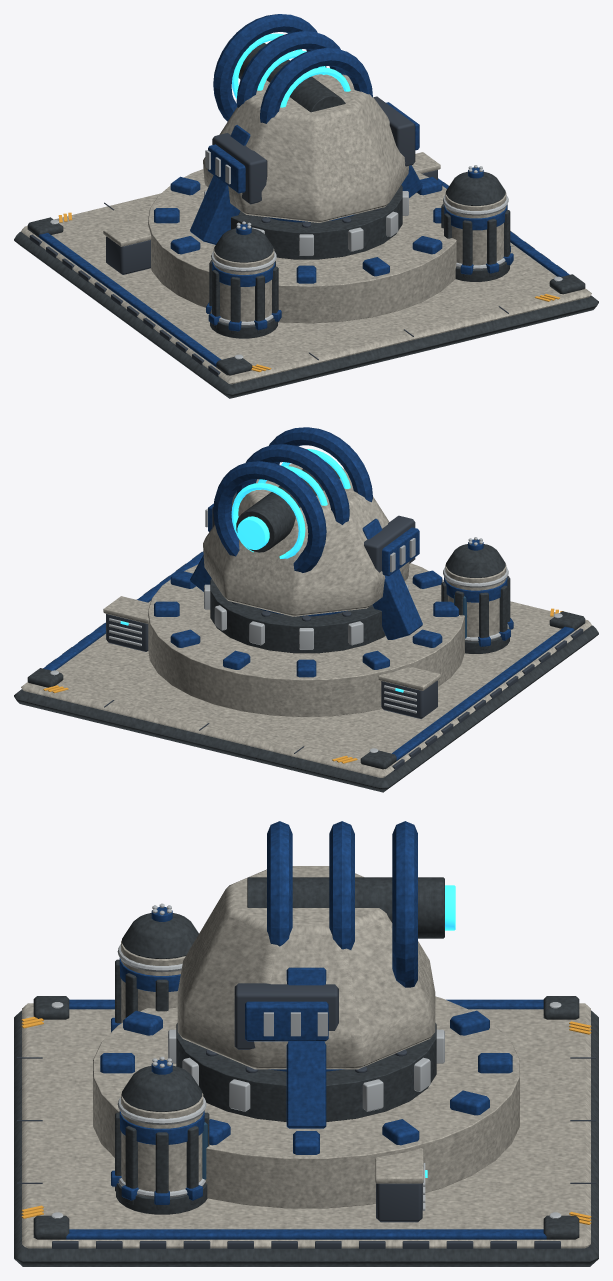
The model's file is solis_canon_solaire.gltf.
3 renders of one model, top to bottom at view 1: azimuth 30°, elevation 25°; view 2: azimuth 150°, elevation 25°; view 3: azimuth 270°, elevation 25°, orthographic. The views are drawn at different scales.
Visible parts, largest first — view 1: Building.017_Geometry, TurretYaw.005_Geometry, GunPitch.005_Geometry; view 2: Building.017_Geometry, TurretYaw.005_Geometry, GunPitch.005_Geometry; view 3: Building.017_Geometry, TurretYaw.005_Geometry, GunPitch.005_Geometry.
Part boxes in pixels (left/top/right/bottom): Building.017_Geometry: left=14, top=125, right=598, bottom=398; TurretYaw.005_Geometry: left=203, top=74, right=419, bottom=222; GunPitch.005_Geometry: left=213, top=14, right=372, bottom=123; Building.017_Geometry: left=14, top=518, right=598, bottom=792; TurretYaw.005_Geometry: left=203, top=464, right=419, bottom=616; GunPitch.005_Geometry: left=213, top=427, right=372, bottom=572; Building.017_Geometry: left=14, top=903, right=598, bottom=1266; TurretYaw.005_Geometry: left=177, top=866, right=435, bottom=1069; GunPitch.005_Geometry: left=247, top=821, right=455, bottom=987.
Bounding box in the file's own units: 5.92 × 3.55 × 5.92.
8 materials, 3 textured.
